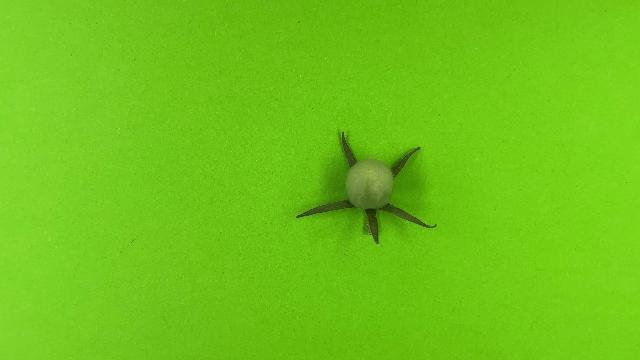Fruit Maturation: (344, 159, 394, 210)
